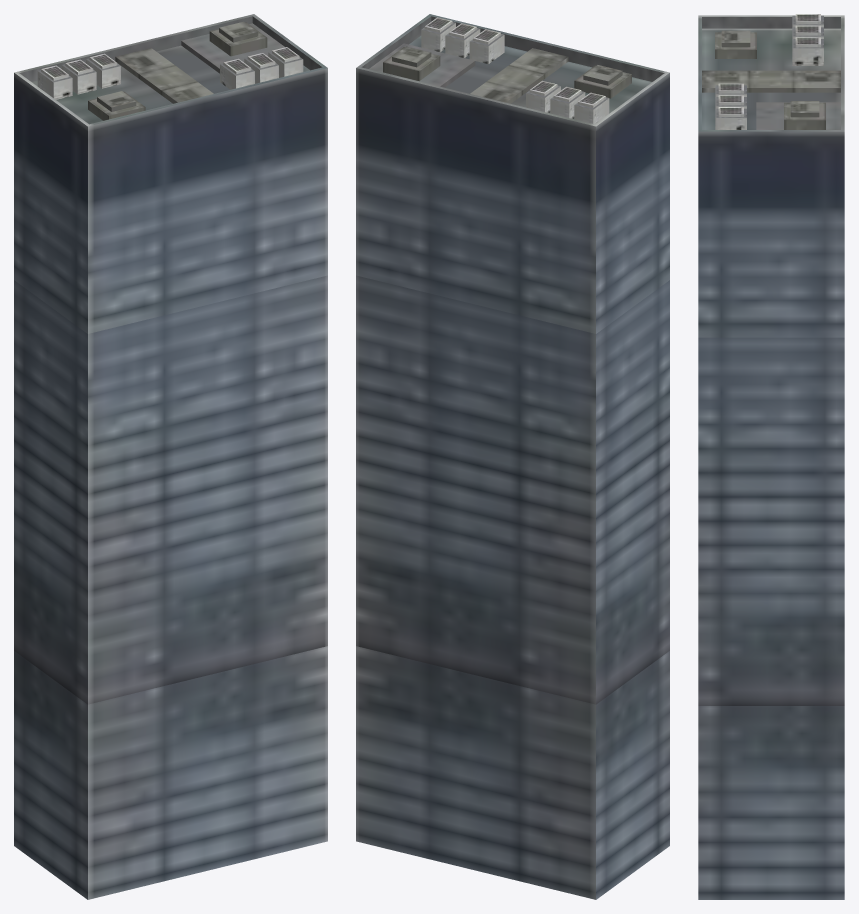
The picture shows the model from 3 angles, left to right: view 1: azimuth 30°, elevation 25°; view 2: azimuth 150°, elevation 25°; view 3: azimuth 270°, elevation 25°; orthographic projection.
Bounding box in the file's own units: 0.4693 × 1.46 × 0.2498.
1 material, 1 textured.
